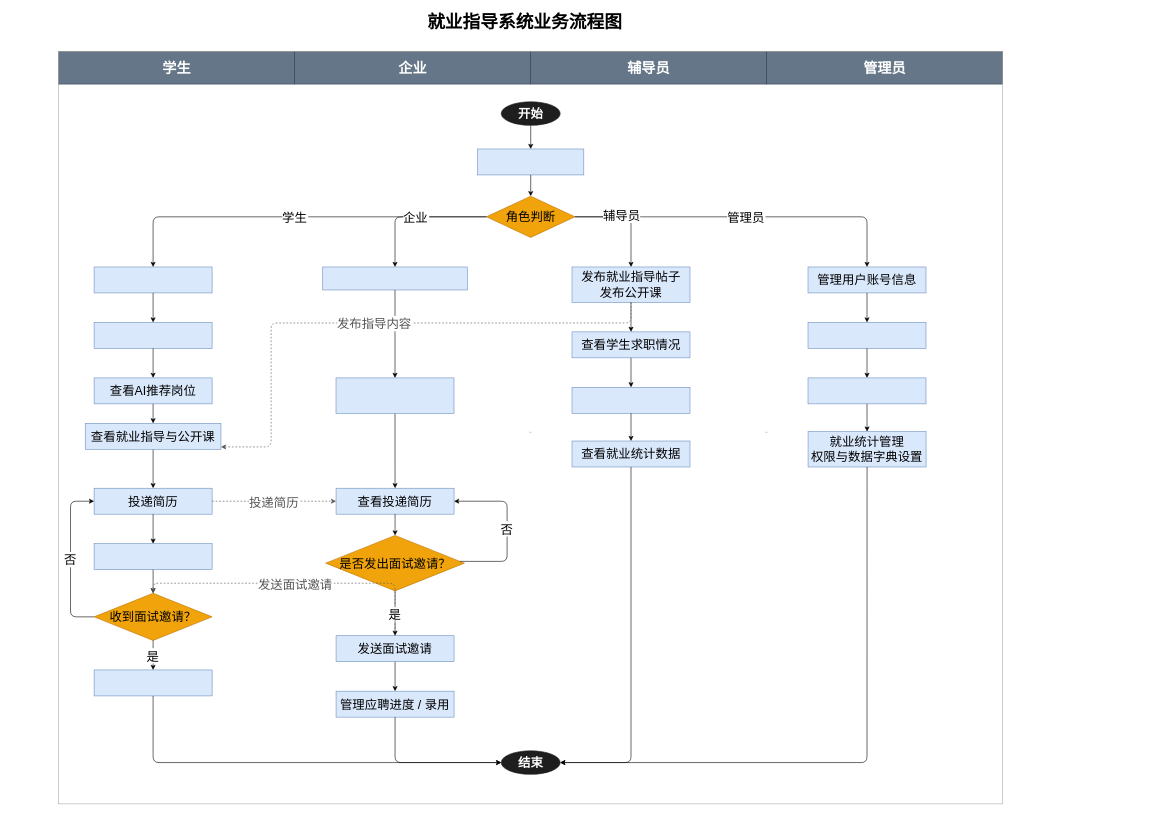
Image size: 1149x814. Some labels were removed from this diagram. Each missing label, with the centre of its shape:
"完善个人信息与简历" belongs at point (153, 279).
"完善企业信息 / 发布岗位" belongs at point (394, 278).
"就业指导内容管理" belongs at point (866, 390).
"岗位与简历信息管理" belongs at point (866, 335).
"浏览 / 搜索岗位" belongs at point (153, 335).
"浏览推荐求职者 AI筛选人才" belongs at point (394, 395).
"用户登录 / 注册" belongs at point (530, 161).
"确认 / 拒绝面试" belongs at point (153, 682).
"管理学生用户信息" belongs at point (630, 400).
"跟踪应聘记录" belongs at point (153, 556).
